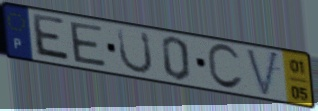0: (160, 35, 194, 84)
C: (205, 42, 246, 92)
E: (32, 12, 73, 65), (67, 20, 108, 69)
U: (115, 26, 155, 75)
V: (243, 47, 281, 100)
